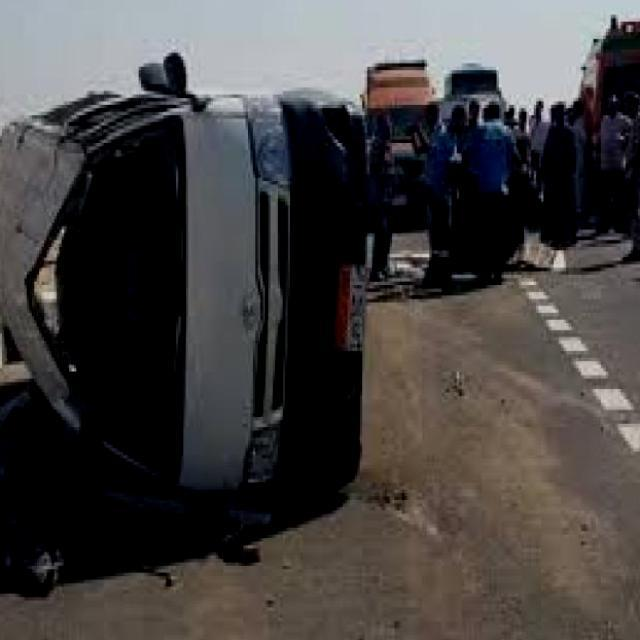accident: (0, 37, 394, 547)
